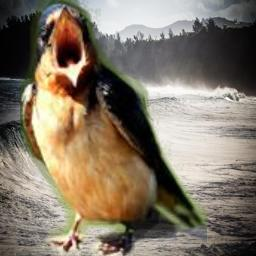Swallow: (20, 0, 207, 256)
